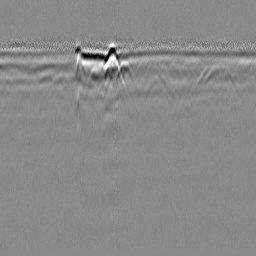cavity: (113, 59, 137, 85)
